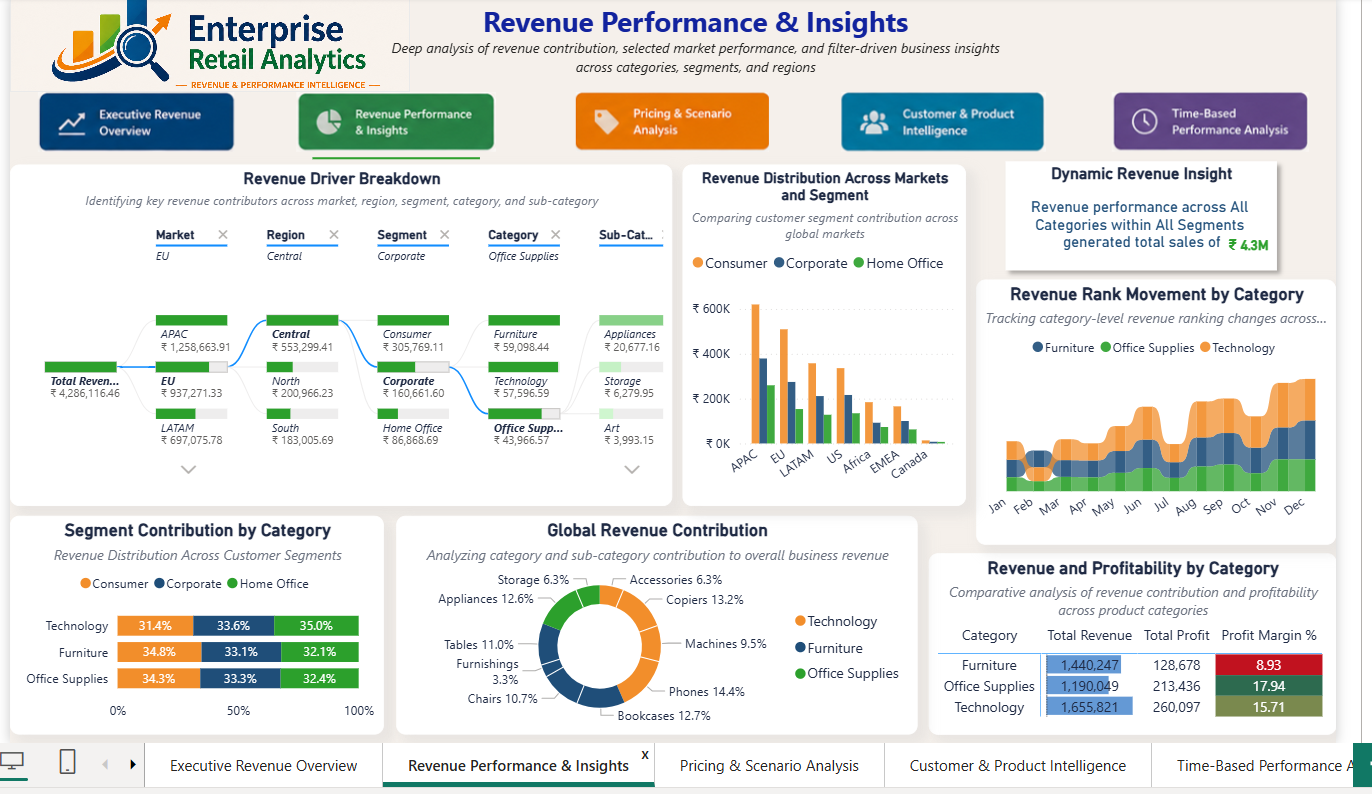

The page's visual inventory and layout, read from the dashboard file:
{"tool":"powerbi","page":{"name":"Revenue Performance & Insights","canvas":[1280,720],"ordinal":1},"visuals":[{"type":"image","box":[0,0,386.1,91.7],"z":0},{"type":"textbox","box":[360.7,0,602,91.7],"z":1000},{"type":"image","box":[22.9,91.7,197.9,57.9],"z":2000},{"type":"image","box":[273.9,91.7,197.9,57.9],"z":3000},{"type":"image","box":[540.5,91.7,197.9,57.9],"z":4000},{"type":"image","box":[802.3,91.7,197.9,57.9],"z":5000},{"type":"image","box":[1059.3,91.7,197.9,57.9],"z":6000},{"type":"shape","box":[292,149.6,161.7,12.1],"z":7000},{"type":"shape","box":[951.9,149.6,279.9,123.1],"z":8000},{"type":"card","title":"Dynamic Revenue Insight","fields":{"Values":["All Measures Table.Revenue Insight Text"]},"box":[962.7,161.7,259.4,98.9],"z":9000},{"type":"card","title":"Dynamic Revenue Insight","fields":{"Values":["All Measures Table.Revenue Insight Value"]},"box":[1169,222,53.1,38.6],"z":10000},{"type":"pivotTable","title":"Revenue and Profitability by Category","fields":{"Rows":["Category Revenue Summary.Category"],"Values":["Max(Category Revenue Summary.Total Revenue)","Max(Category Revenue Summary.Total Profit)","Max(Category Revenue Summary.Profit Margin %)"]},"box":[886.7,536.9,393.3,174.9],"z":11000},{"type":"decompositionTreeVisual","title":"Revenue Driver Breakdown","fields":{"Analyze":["All Measures Table.Total Revenue"],"ExplainBy":["dim_region.Market","dim_region.Region","dim_customer.Segment","dim_product.Category","dim_product.Sub-Category"]},"box":[0,161.7,639.4,329.4],"z":12000},{"type":"hundredPercentStackedBarChart","title":"Segment Contribution by Category","fields":{"Category":["dim_product.Category"],"Series":["dim_customer.Segment"],"Y":["All Measures Table.Revenue Selected %"]},"box":[0,500.7,360.7,211.1],"z":13000},{"type":"donutChart","title":"Global Revenue Contribution","fields":{"Category":["dim_product.Category"],"Series":["dim_product.Sub-Category"],"Y":["All Measures Table.Revenue Global %"]},"box":[372.8,500.7,503.1,211.1],"z":14000},{"type":"ribbonChart","title":"Revenue Rank Movement by Category","fields":{"Category":["dim_date.Month"],"Series":["dim_product.Category"],"Y":["All Measures Table.Total Revenue"]},"box":[932.6,272.7,347.5,255.8],"z":15000},{"type":"clusteredColumnChart","title":"Revenue Distribution Across Markets and Segment","fields":{"Category":["dim_region.Market"],"Series":["dim_customer.Segment"],"Y":["All Measures Table.Total Revenue"]},"box":[649.1,161.7,273.9,329.4],"z":16000},{"type":"actionButton","box":[24.1,91.7,196.6,57.9],"z":16001},{"type":"actionButton","box":[541.7,91.7,196.6,57.9],"z":16002},{"type":"actionButton","box":[802.3,91.7,196.6,57.9],"z":16003},{"type":"actionButton","box":[1060.5,91.7,196.6,57.9],"z":16004}]}

Visuals, with their boxes on the page's 1280x720 design canvas (x1, y1, x2, y2). These are canvas units, not pixel positions in the 1372x794 screenshot, which may show the page scaled, cropped or inside an application window:
image: region(0, 0, 386, 92)
textbox: region(361, 0, 963, 92)
image: region(23, 92, 221, 150)
image: region(274, 92, 472, 150)
image: region(540, 92, 738, 150)
image: region(802, 92, 1000, 150)
image: region(1059, 92, 1257, 150)
shape: region(292, 150, 454, 162)
shape: region(952, 150, 1232, 273)
"Dynamic Revenue Insight" card: region(963, 162, 1222, 261)
"Dynamic Revenue Insight" card: region(1169, 222, 1222, 261)
"Revenue and Profitability by Category" pivotTable: region(887, 537, 1280, 712)
"Revenue Driver Breakdown" decompositionTreeVisual: region(0, 162, 639, 491)
"Segment Contribution by Category" hundredPercentStackedBarChart: region(0, 501, 361, 712)
"Global Revenue Contribution" donutChart: region(373, 501, 876, 712)
"Revenue Rank Movement by Category" ribbonChart: region(933, 273, 1280, 528)
"Revenue Distribution Across Markets and Segment" clusteredColumnChart: region(649, 162, 923, 491)
actionButton: region(24, 92, 221, 150)
actionButton: region(542, 92, 738, 150)
actionButton: region(802, 92, 999, 150)
actionButton: region(1060, 92, 1257, 150)
